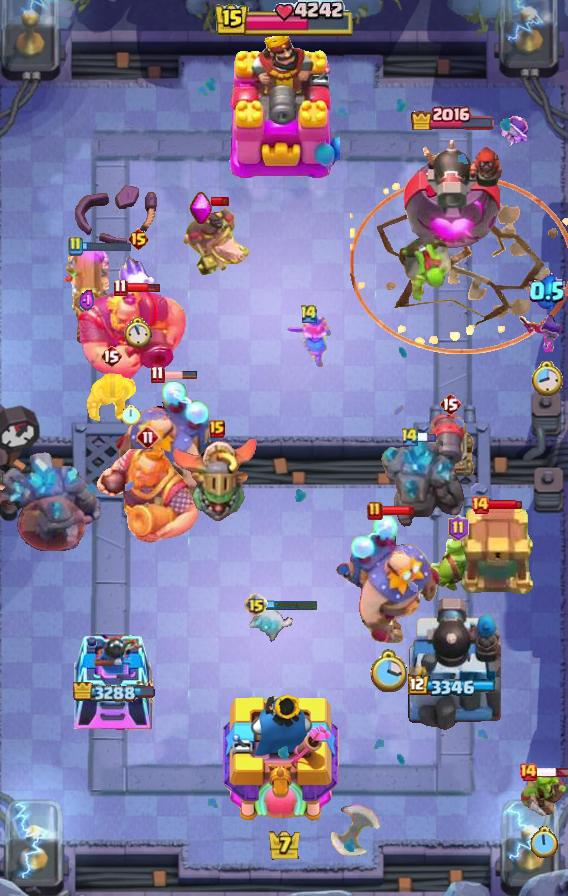bar-level: (396, 234, 454, 306)
bat: (246, 605, 294, 645)
battle-healer: (64, 242, 110, 346)
bomb: (456, 508, 534, 596)
cannoneer-tower: (0, 451, 100, 551), (380, 434, 468, 532)
clock: (213, 0, 355, 40)
electro-spirit: (529, 273, 565, 309), (79, 289, 95, 313)
elixir: (369, 650, 407, 694), (531, 361, 563, 399), (530, 826, 559, 860), (124, 317, 152, 349), (122, 404, 141, 425)
emote: (266, 599, 319, 611), (81, 240, 132, 252), (125, 282, 161, 295), (487, 499, 523, 511), (381, 504, 415, 515), (162, 370, 198, 380), (536, 766, 568, 777), (418, 431, 438, 443), (210, 196, 230, 207)
flying-machine: (426, 535, 490, 593)
freeze: (181, 203, 251, 277)
giant-skeleton: (95, 443, 201, 545)
goblin: (516, 313, 568, 355), (498, 115, 530, 149)
goblin-giant: (84, 371, 138, 425)
guard: (350, 175, 568, 354)
hog-rider: (285, 315, 333, 369)
king-tower: (228, 29, 340, 181), (223, 689, 345, 826)
lightning: (75, 287, 188, 383)
little-prince: (334, 513, 442, 647), (115, 380, 221, 506)
mirror: (118, 256, 158, 306)
night-witch: (170, 435, 264, 523)
queen-tower: (73, 623, 155, 731)
royal-giant: (329, 803, 397, 857)
royal-giant-evolution: (421, 411, 479, 481)
selected: (410, 102, 496, 129), (408, 674, 498, 698), (73, 682, 155, 704)
skeleton-king-skill: (189, 192, 213, 226)
text: (136, 425, 160, 449), (244, 593, 268, 617), (447, 515, 469, 541), (127, 227, 150, 251), (100, 344, 122, 368), (439, 392, 461, 416), (400, 425, 420, 447), (299, 303, 319, 324), (470, 495, 490, 515), (518, 762, 538, 782), (67, 236, 83, 256), (367, 501, 383, 521), (209, 420, 225, 438), (113, 279, 128, 298), (151, 365, 165, 384)
tower-bar: (401, 132, 508, 256), (405, 595, 501, 731)
zap: (519, 771, 567, 817)
